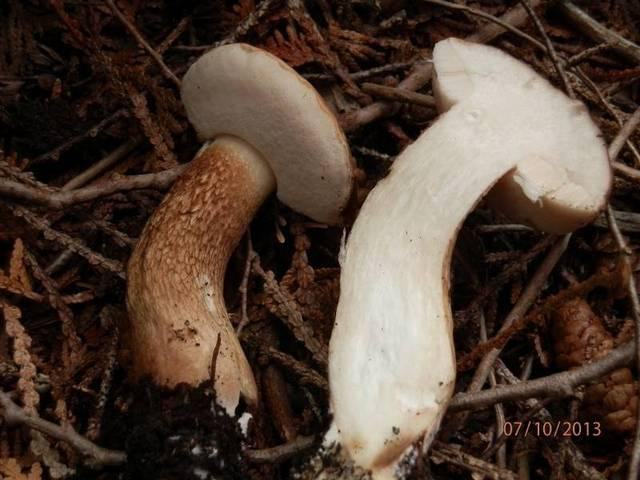Non-edible Mushroom: (318, 35, 613, 477), (123, 40, 354, 423)
